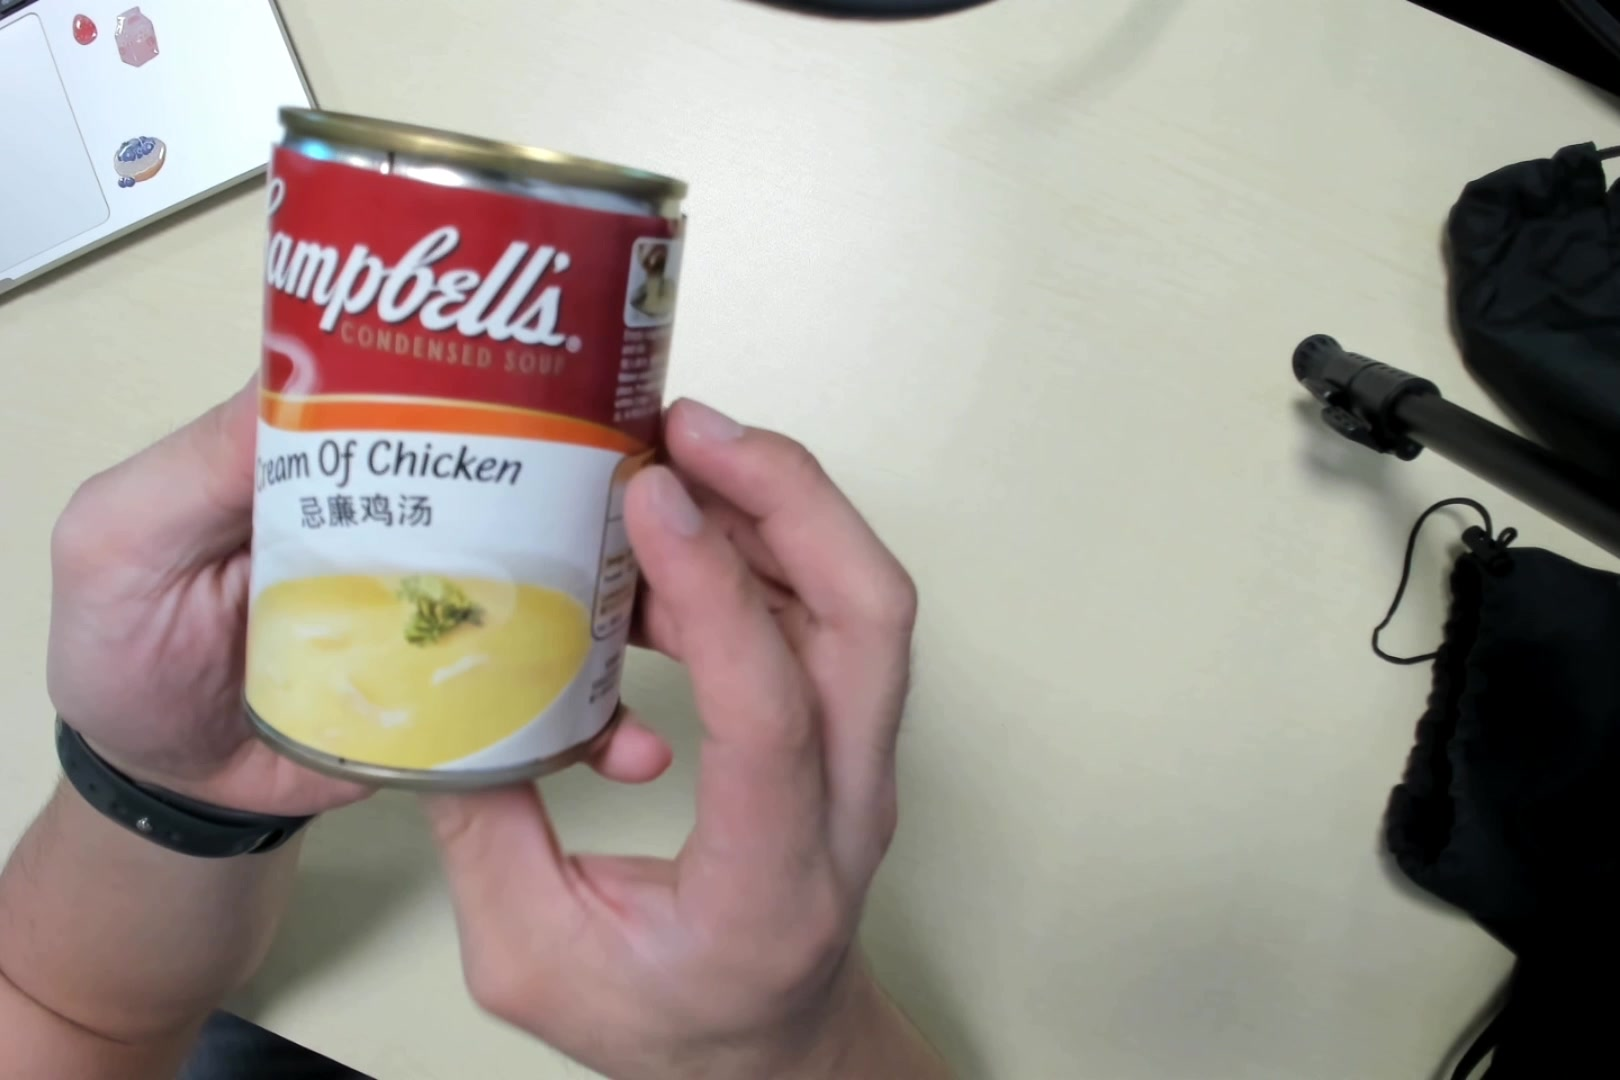CannedSoup_300-399g_Halal_NonHealthy: (252, 102, 680, 791)
